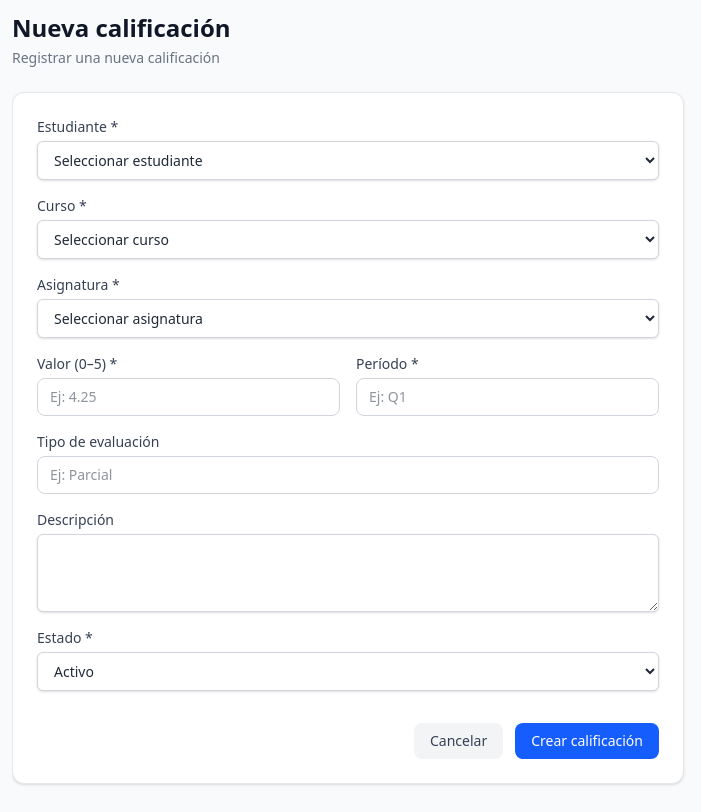
Test: GradeFormPage › shows validation errors on empty submit
Step 1. Click the button "Crear calificación" → (587, 741), box x1=515 y1=723 x2=659 y2=759
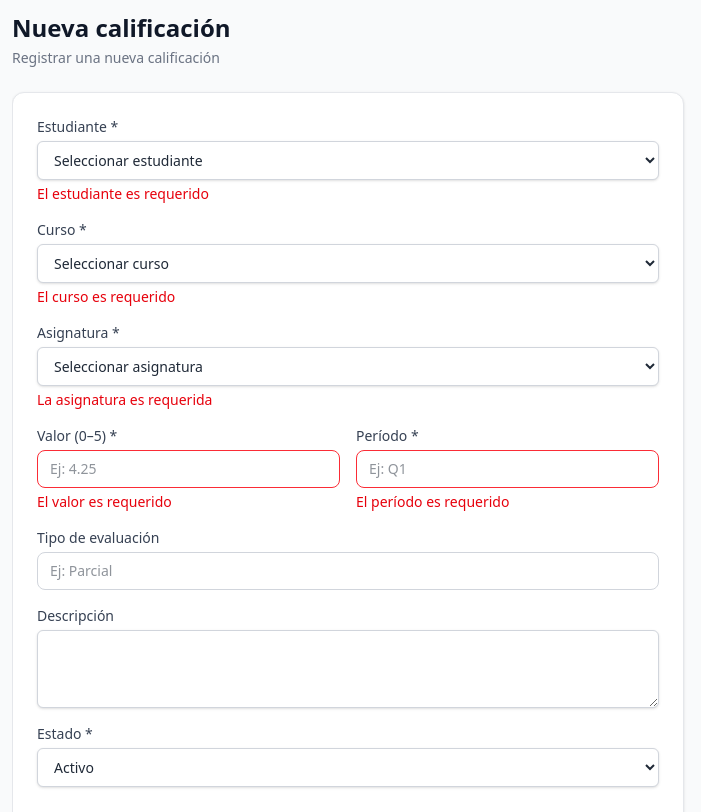
Check: the text "El valor es requerido" is shown, box x1=37 y1=492 x2=172 y2=511
Check: the text "El período es requerido" is shown, box x1=356 y1=492 x2=509 y2=511
